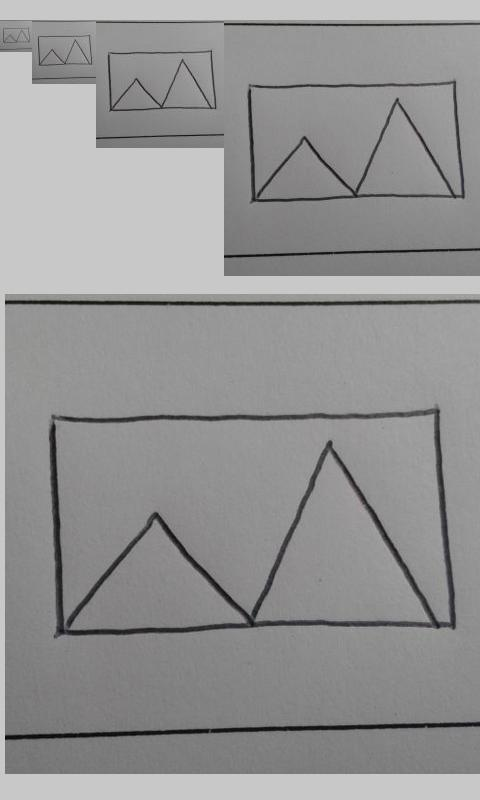image_view: (42, 403, 458, 640), (245, 80, 468, 206), (106, 50, 217, 112), (37, 34, 94, 66), (2, 27, 31, 44)
